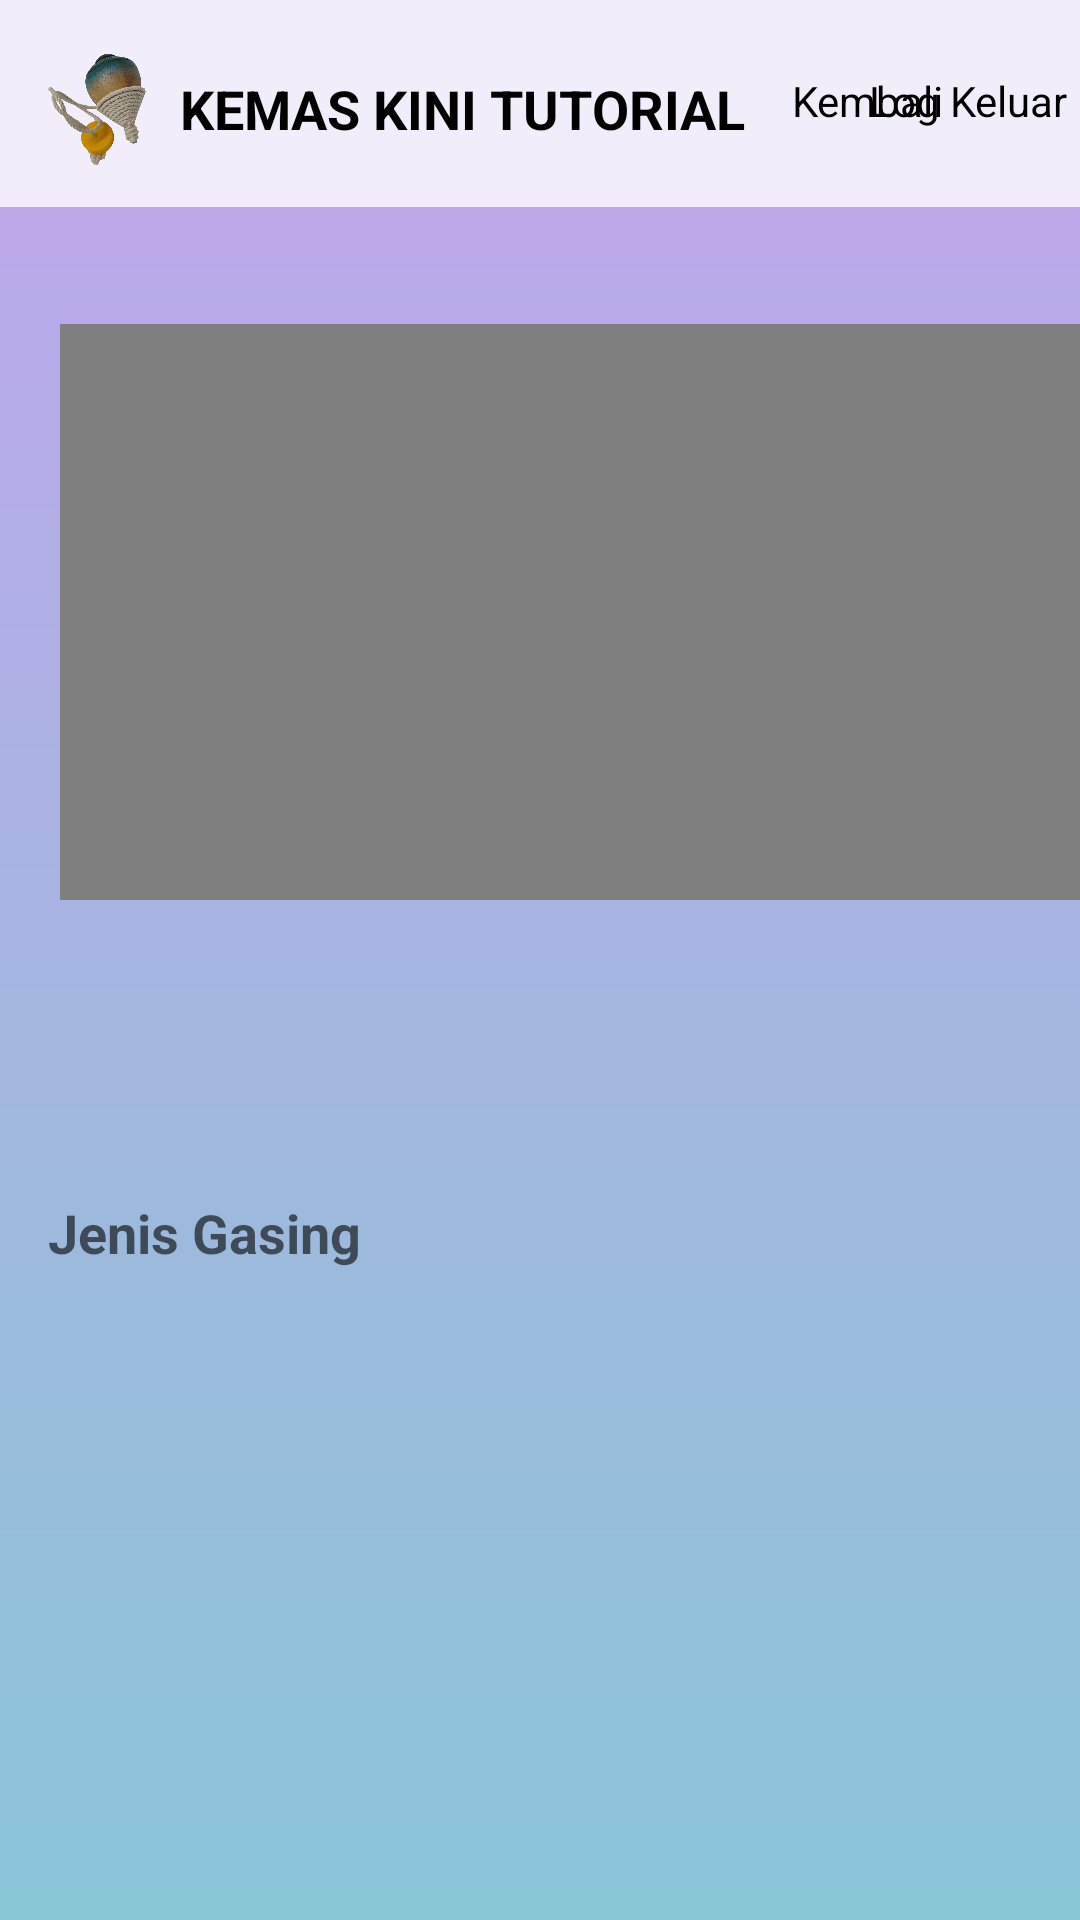

Icon bounding boxes for this 1080x1920 phone screenshot, format BBox(x1, y1, x2, y2):
gasing: BBox(48, 54, 146, 165)
